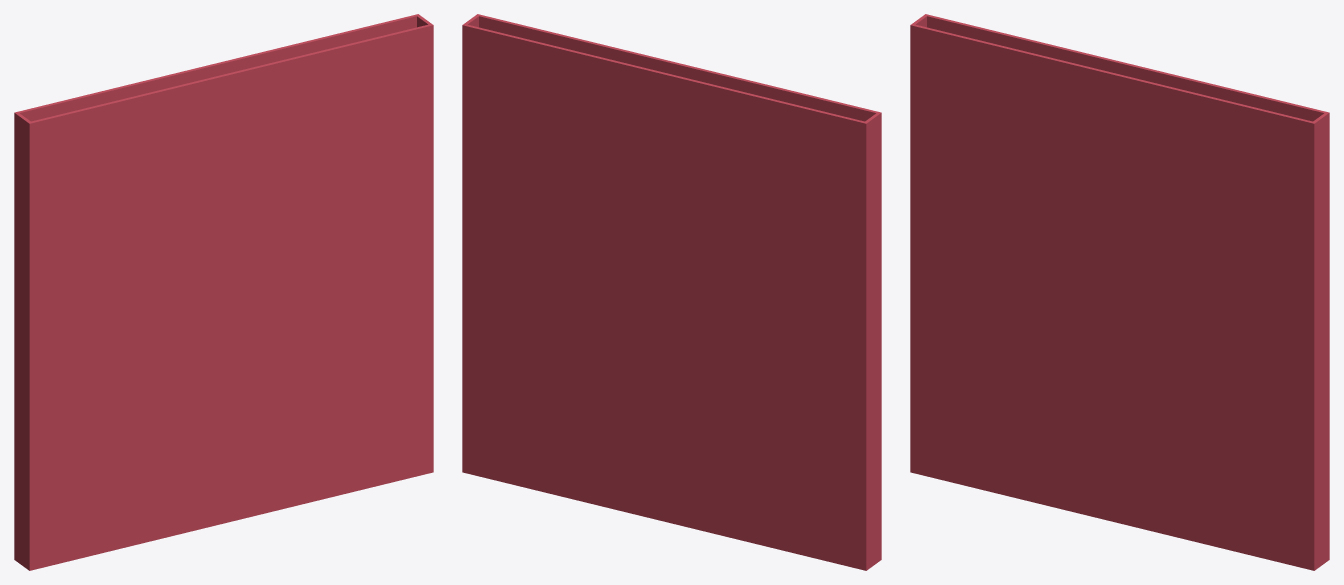
The model's file is lvdm_rangement_old_insert.glb.
The picture shows the model from 3 angles, left to right: view 1: azimuth 30°, elevation 25°; view 2: azimuth 150°, elevation 25°; view 3: azimuth 330°, elevation 25°; orthographic projection.
Visible parts, largest first — view 1: Mesh_Mesh_head_geo.001_lambert2SG.001; view 2: Mesh_Mesh_head_geo.001_lambert2SG.001; view 3: Mesh_Mesh_head_geo.001_lambert2SG.001.
Boxes of the visible parts, box(x1,y1,x2,y2) form: Mesh_Mesh_head_geo.001_lambert2SG.001: box(14, 14, 433, 570); Mesh_Mesh_head_geo.001_lambert2SG.001: box(462, 14, 881, 570); Mesh_Mesh_head_geo.001_lambert2SG.001: box(910, 14, 1329, 570).
Size of the model in its own units: 0.122 by 0.129 by 0.008.
